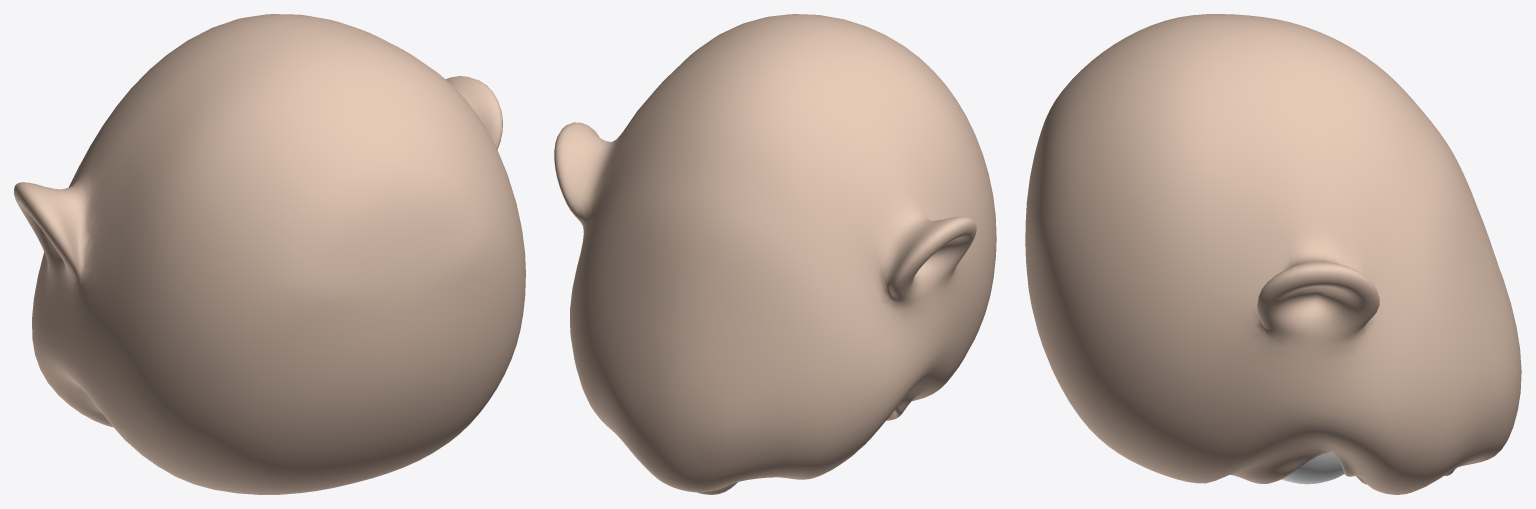
File: marisol.obj
The picture shows the model from 3 angles, left to right: view 1: azimuth 30°, elevation 25°; view 2: azimuth 150°, elevation 25°; view 3: azimuth 270°, elevation 25°; orthographic projection. The views are drawn at different scales.
Visible parts, largest first — view 1: Head_cl_head_LOW.002; view 2: Head_cl_head_LOW.002; view 3: Head_cl_head_LOW.002, Eye.L_cl_head_LOW.001.
Part boxes in pixels (<box>): Head_cl_head_LOW.002: <box>14,14,525,494</box>; Head_cl_head_LOW.002: <box>554,14,996,494</box>; Head_cl_head_LOW.002: <box>1025,14,1521,494</box>; Eye.L_cl_head_LOW.001: <box>1281,452,1344,484</box>.
Size of the model in its own units: 6.88 by 6.56 by 6.56.
